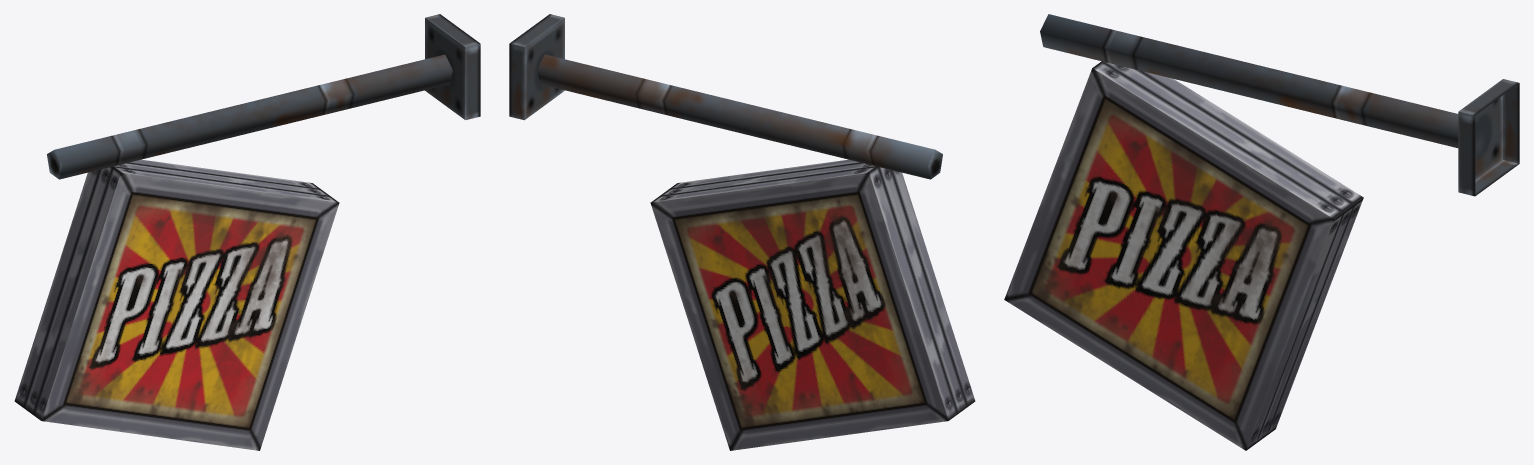
Rendered from signage02_B.fbx.
3 views of the same model, side by side, from view 1: azimuth 30°, elevation 25°; view 2: azimuth 150°, elevation 25°; view 3: azimuth 330°, elevation 25° (orthographic). The views are drawn at different scales.
Parts seen in each view (by area): view 1: signage02_B; view 2: signage02_B; view 3: signage02_B.
Boxes of the visible parts, bbox=[...] form: signage02_B: bbox=[14, 14, 480, 450]; signage02_B: bbox=[509, 14, 975, 450]; signage02_B: bbox=[1004, 14, 1519, 450].
Bounding box in the file's own units: 186 × 148 × 30.02.
